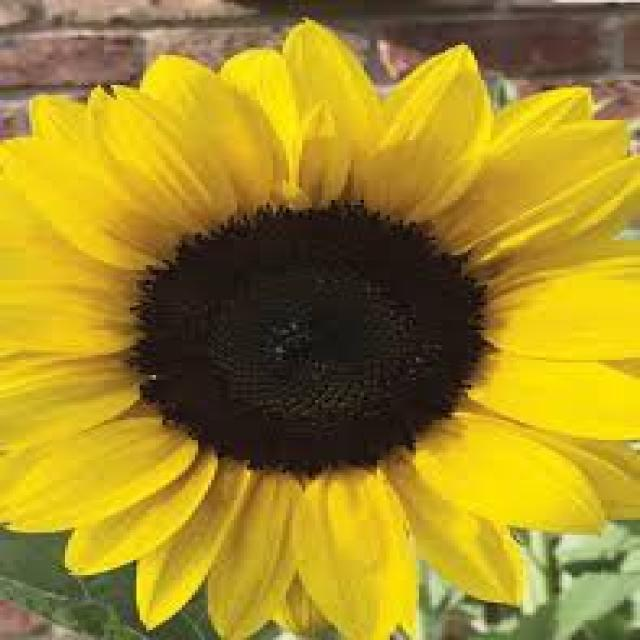sunflower: (3, 2, 640, 640)
